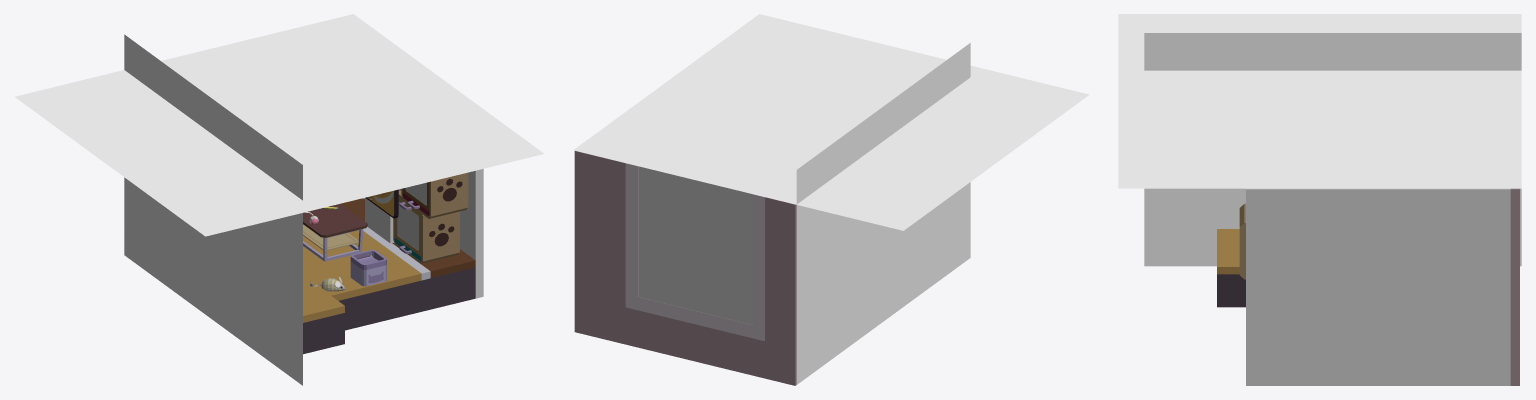
Rendered from 0017_catRoom.fbx.
3 renders of one model, left to right at view 1: azimuth 30°, elevation 25°; view 2: azimuth 150°, elevation 25°; view 3: azimuth 270°, elevation 25°, orthographic. The views are drawn at different scales.
Visible parts, largest first — view 1: Quad, Quad (1), Floor, CatToiletBox (×2), Wall02, Table01, CatBox01, TV_Wall, CatHome_Glass, Table03, TV, Table02; view 2: Quad, Wall01, Quad (1), Window_Glass; view 3: Quad, Wall02, Quad (1), Floor, Wall01, CatToiletBox.
Boxes of the visible parts, x1,y1,x2,y2 form: Quad: [14, 14, 544, 236]; Quad (1): [124, 34, 302, 385]; Floor: [303, 198, 475, 354]; CatToiletBox (×2): [393, 172, 468, 263]; Wall02: [398, 169, 483, 298]; Table01: [303, 203, 367, 237]; CatBox01: [350, 250, 386, 286]; TV_Wall: [365, 198, 394, 243]; CatHome_Glass: [397, 201, 418, 250]; Table03: [303, 224, 358, 250]; TV: [365, 189, 398, 218]; Table02: [303, 229, 363, 261]; Quad: [573, 14, 1089, 230]; Wall01: [574, 151, 796, 385]; Quad (1): [796, 43, 970, 384]; Window_Glass: [638, 166, 752, 324]; Quad: [1118, 14, 1521, 188]; Wall02: [1246, 188, 1510, 385]; Quad (1): [1144, 33, 1521, 266]; Floor: [1217, 229, 1245, 307]; Wall01: [1510, 188, 1519, 385]; CatToiletBox: [1239, 203, 1245, 279].
Bounding box in the file's own units: 11.93 × 7.48 × 11.64.
